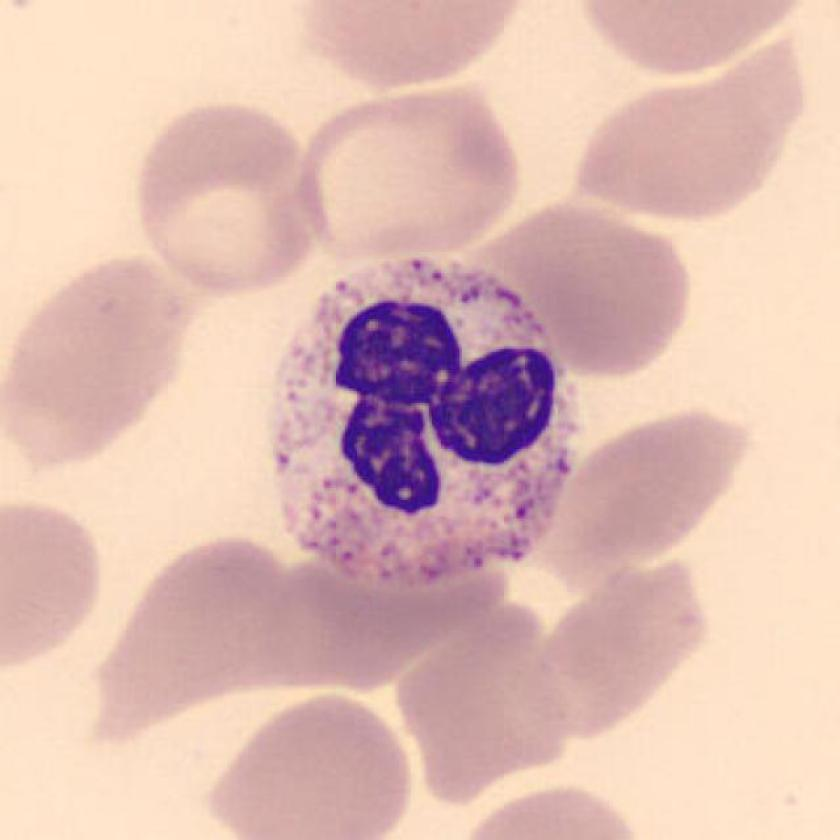neutrophil: (269, 254, 577, 588)
